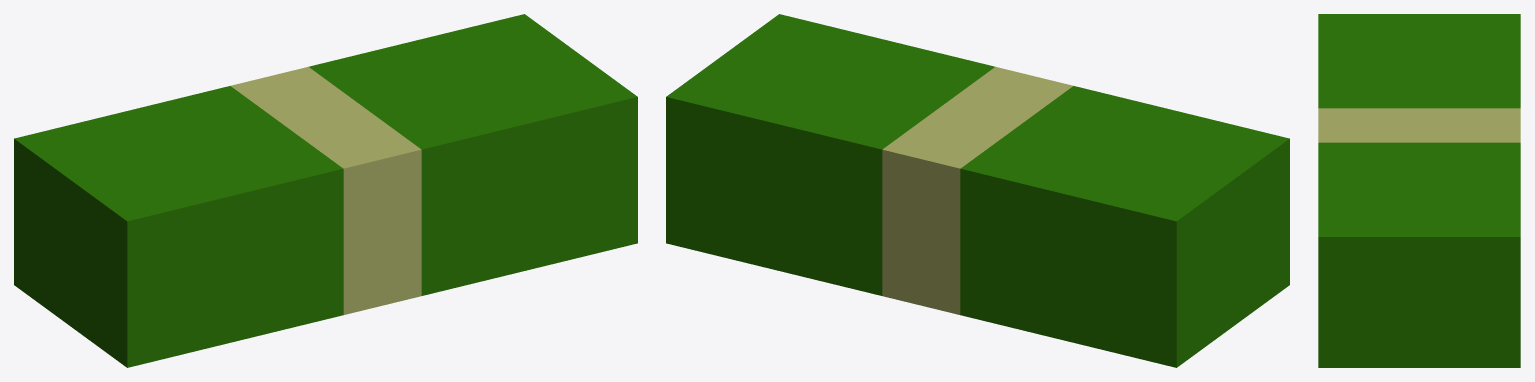
The model's file is Money.fbx.
3 views of the same model, side by side, from view 1: azimuth 30°, elevation 25°; view 2: azimuth 150°, elevation 25°; view 3: azimuth 270°, elevation 25° (orthographic). The views are drawn at different scales.
Parts seen in each view (by area): view 1: Money; view 2: Money; view 3: Money.
Boxes of the visible parts, x1,y1,x2,y2 form: Money: (14, 14, 637, 367); Money: (666, 14, 1289, 367); Money: (1318, 14, 1520, 367).
Bounding box in the file's own units: 39.2 × 10.75 × 15.06.
